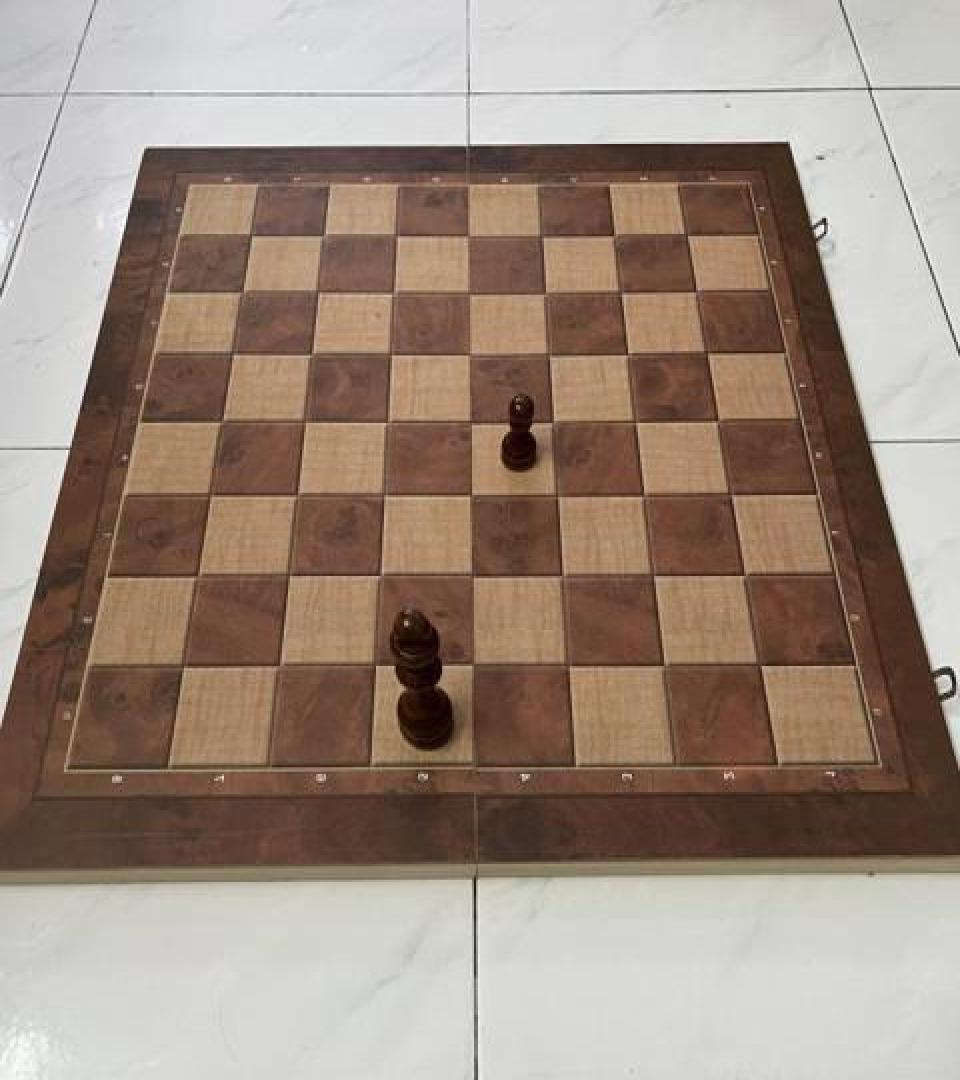xcorner: (673, 219, 707, 258), (303, 272, 337, 311), (379, 272, 413, 311), (455, 273, 489, 312), (531, 273, 565, 312), (535, 335, 569, 374), (205, 400, 239, 439), (289, 400, 323, 439), (235, 215, 269, 253), (309, 215, 343, 253), (382, 216, 416, 254), (455, 217, 489, 255), (528, 217, 562, 255), (601, 218, 635, 256), (226, 271, 260, 309), (607, 274, 641, 312), (683, 276, 717, 314), (216, 333, 250, 371), (296, 333, 330, 371), (376, 334, 410, 372), (455, 334, 489, 372), (614, 336, 648, 374), (693, 336, 727, 374), (372, 402, 406, 440), (456, 402, 490, 440), (539, 403, 573, 441), (621, 403, 655, 441), (704, 404, 738, 442), (193, 474, 227, 512), (281, 475, 315, 513), (368, 475, 402, 513), (456, 476, 490, 514), (543, 476, 577, 514), (630, 476, 664, 514), (716, 477, 750, 515), (179, 556, 213, 594), (272, 556, 306, 594), (364, 557, 398, 595), (456, 557, 490, 595), (547, 557, 581, 595), (639, 558, 673, 596), (730, 558, 764, 596), (164, 647, 198, 685), (262, 647, 296, 685), (359, 647, 393, 685), (456, 647, 490, 685), (552, 647, 586, 685), (649, 647, 683, 685), (744, 647, 778, 685)
